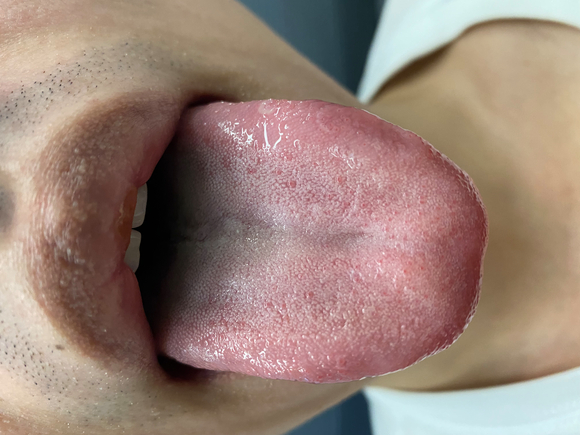baitaishe: (149, 99, 487, 384)
